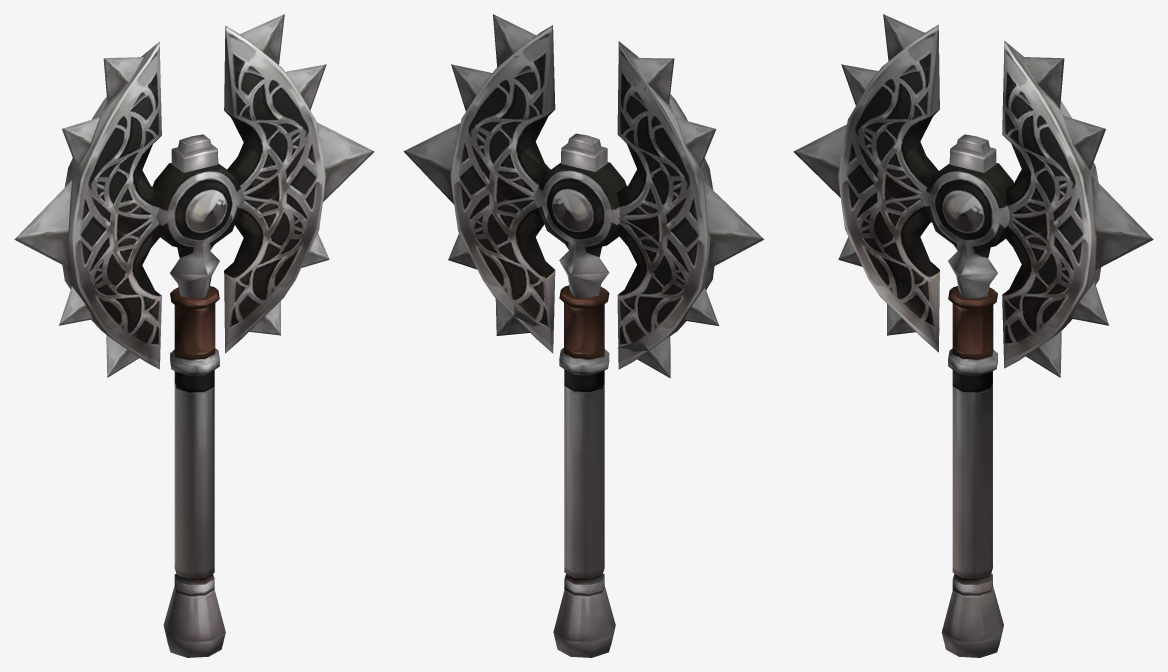
Rendered from Hero_Phillop_Cos16SL_Axe.fbx.
The picture shows the model from 3 angles, left to right: view 1: azimuth 30°, elevation 25°; view 2: azimuth 150°, elevation 25°; view 3: azimuth 330°, elevation 25°; orthographic projection.
Visible parts, largest first — view 1: Hero_Phillop_Cos16SL_Axe; view 2: Hero_Phillop_Cos16SL_Axe; view 3: Hero_Phillop_Cos16SL_Axe.
Part boxes in pixels (x1,y1,x2,y2): Hero_Phillop_Cos16SL_Axe: [14, 14, 374, 657]; Hero_Phillop_Cos16SL_Axe: [403, 14, 764, 657]; Hero_Phillop_Cos16SL_Axe: [793, 14, 1153, 657].
Bounding box in the file's own units: 0.8133 × 1.33 × 0.126.
1 material, 1 textured.
